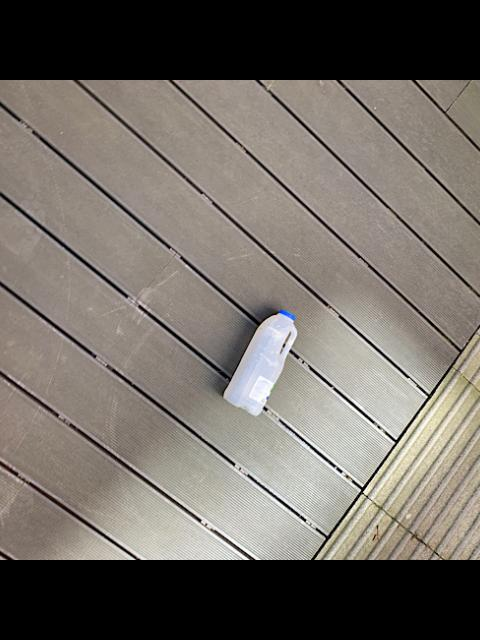plastic: (224, 309, 297, 414)
